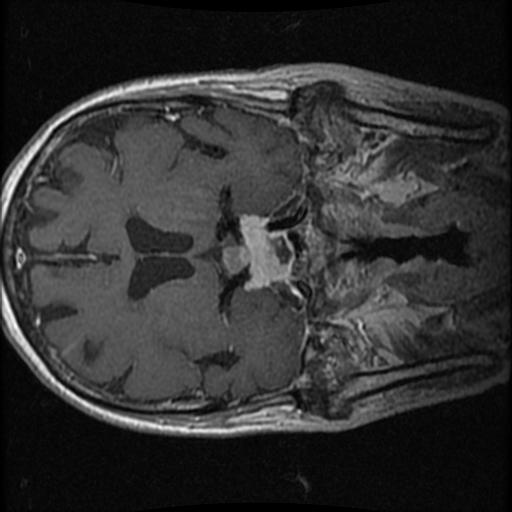pituitary tumour: (221, 210, 295, 291)
